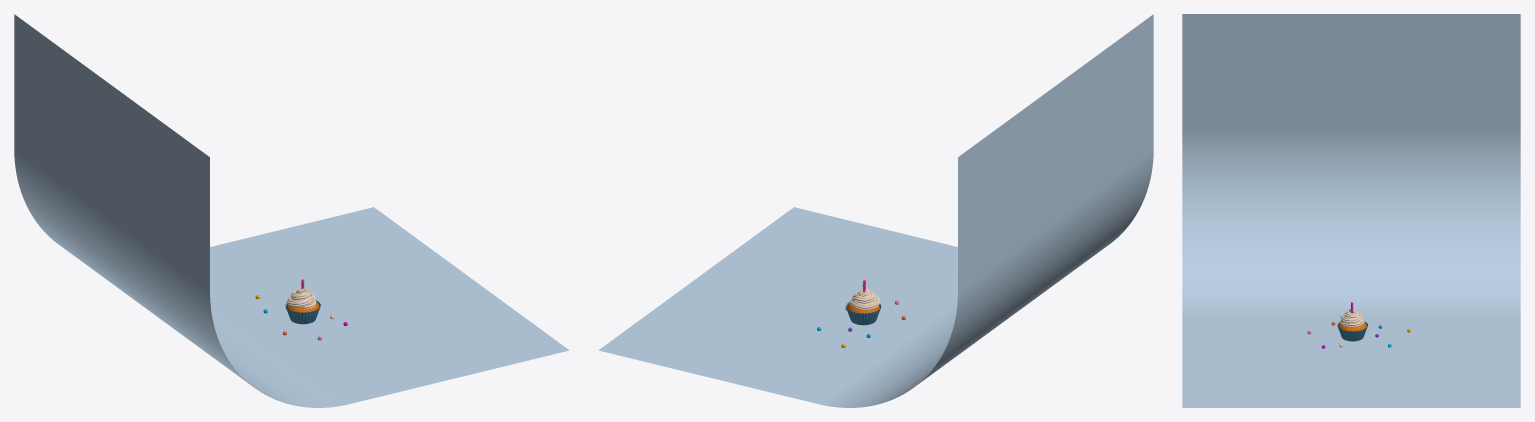
File: cupcake_birthday.glb
3 views of the same model, side by side, from view 1: azimuth 30°, elevation 25°; view 2: azimuth 150°, elevation 25°; view 3: azimuth 270°, elevation 25° (orthographic). The views are drawn at different scales.
Parts seen in each view (by area): view 1: Plane.001_3; view 2: Plane.001_3, cream_144; view 3: Plane.001_3, cream_144.
Part boxes in pixels (x1,y1,x2,y2): Plane.001_3: (14, 14, 569, 407); Plane.001_3: (598, 14, 1153, 407); cream_144: (850, 285, 879, 310); Plane.001_3: (1182, 14, 1520, 407); cream_144: (1340, 309, 1365, 326).
Bounding box in the file's own units: 38.81 × 28.98 × 36.6.
